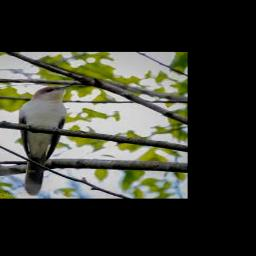Cuckoo: (20, 85, 74, 195)
